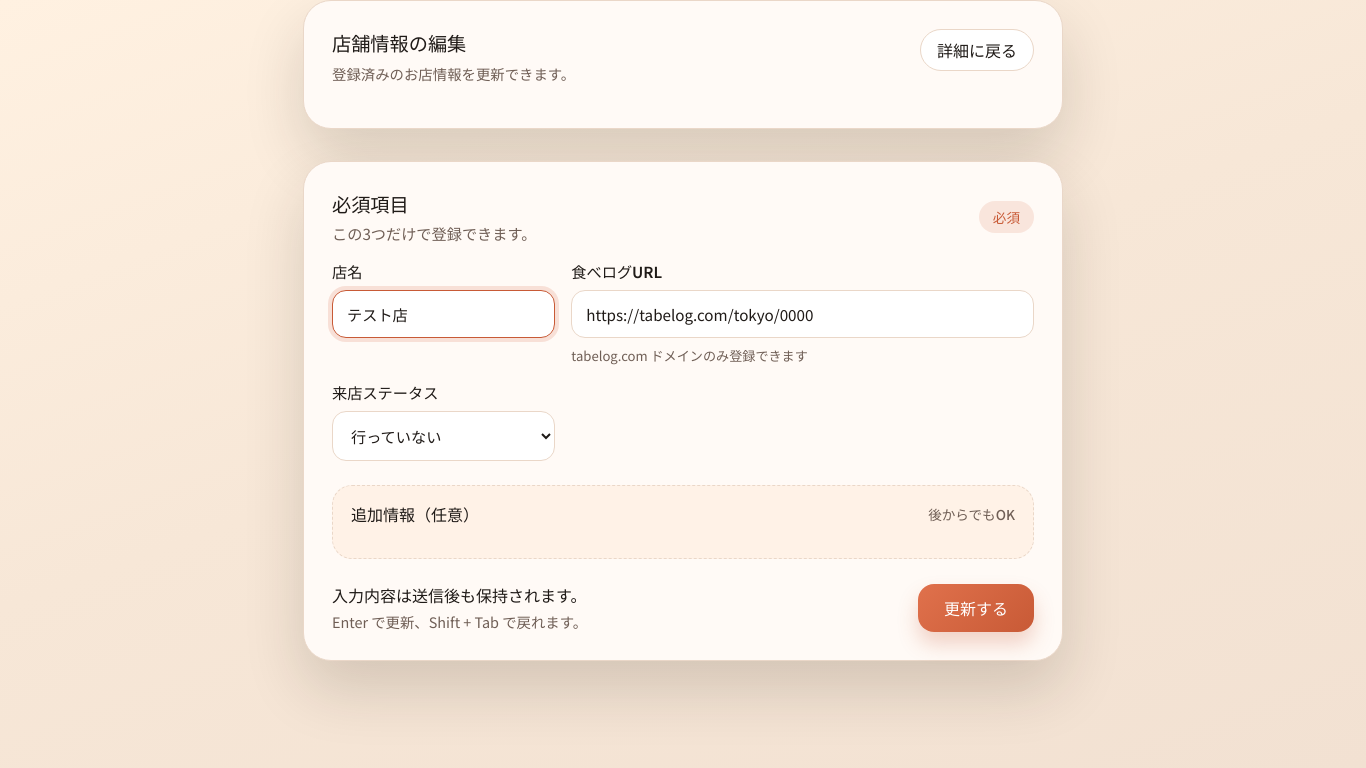
it: EditPlaceScreen › 更新時のバリデーションエラーを表示する
Expected: the field labelled "店名" is shown, [332,290,555,338]
Click the button "更新する".
click(976, 608)  # box [918,584,1034,632]
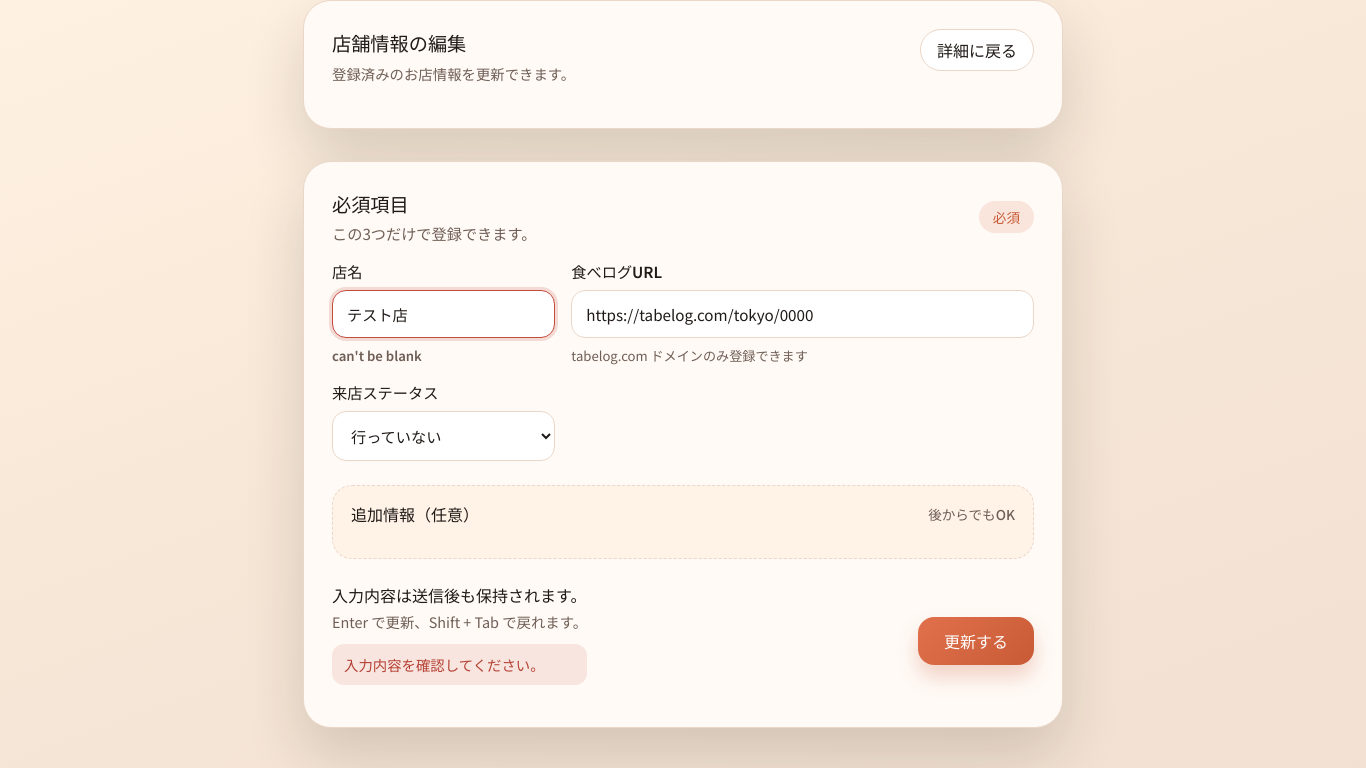
Expected: the text "入力内容を確認してください。" is shown, [332,644,587,685]
Expected: the text "can't be blank" is shown, [332,346,422,365]
